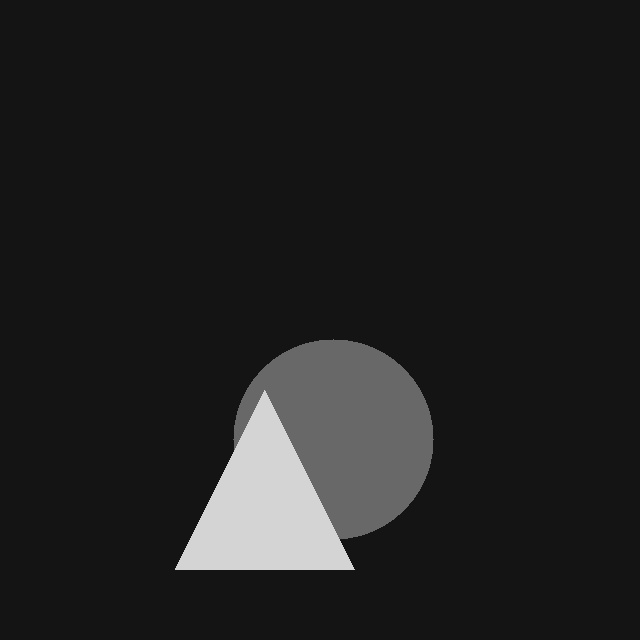circle: (233, 339, 433, 539)
triangle: (175, 390, 354, 569)
